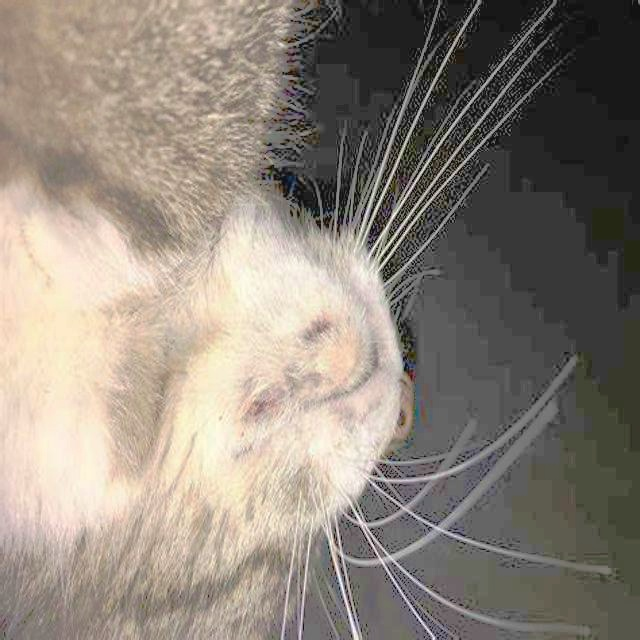acne: (234, 317, 331, 426)
